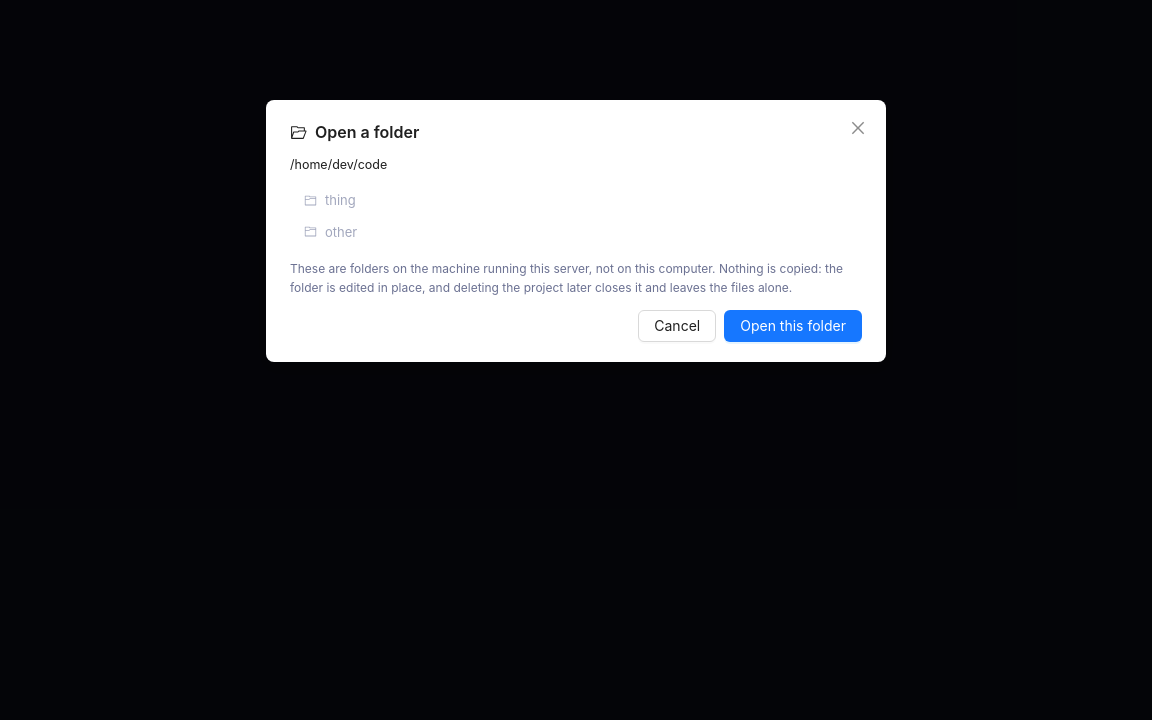
choosing a folder › shows the server's refusal rather than a generic failure
The image size is (1152, 720).
Expected: the text "thing" is shown, [325, 192, 356, 208]
Click the button "Open this folder".
click(793, 326)  # box [724, 310, 862, 342]
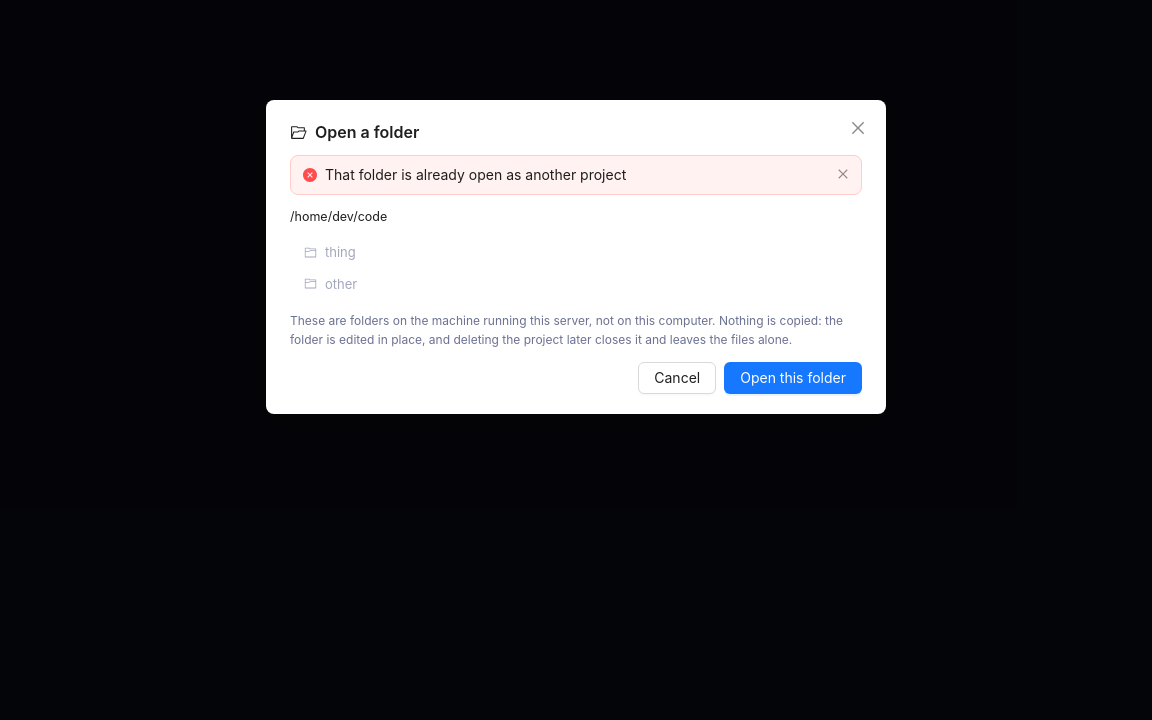
Result: the text "That folder is already open as another project" is shown at [325, 166, 626, 182]
